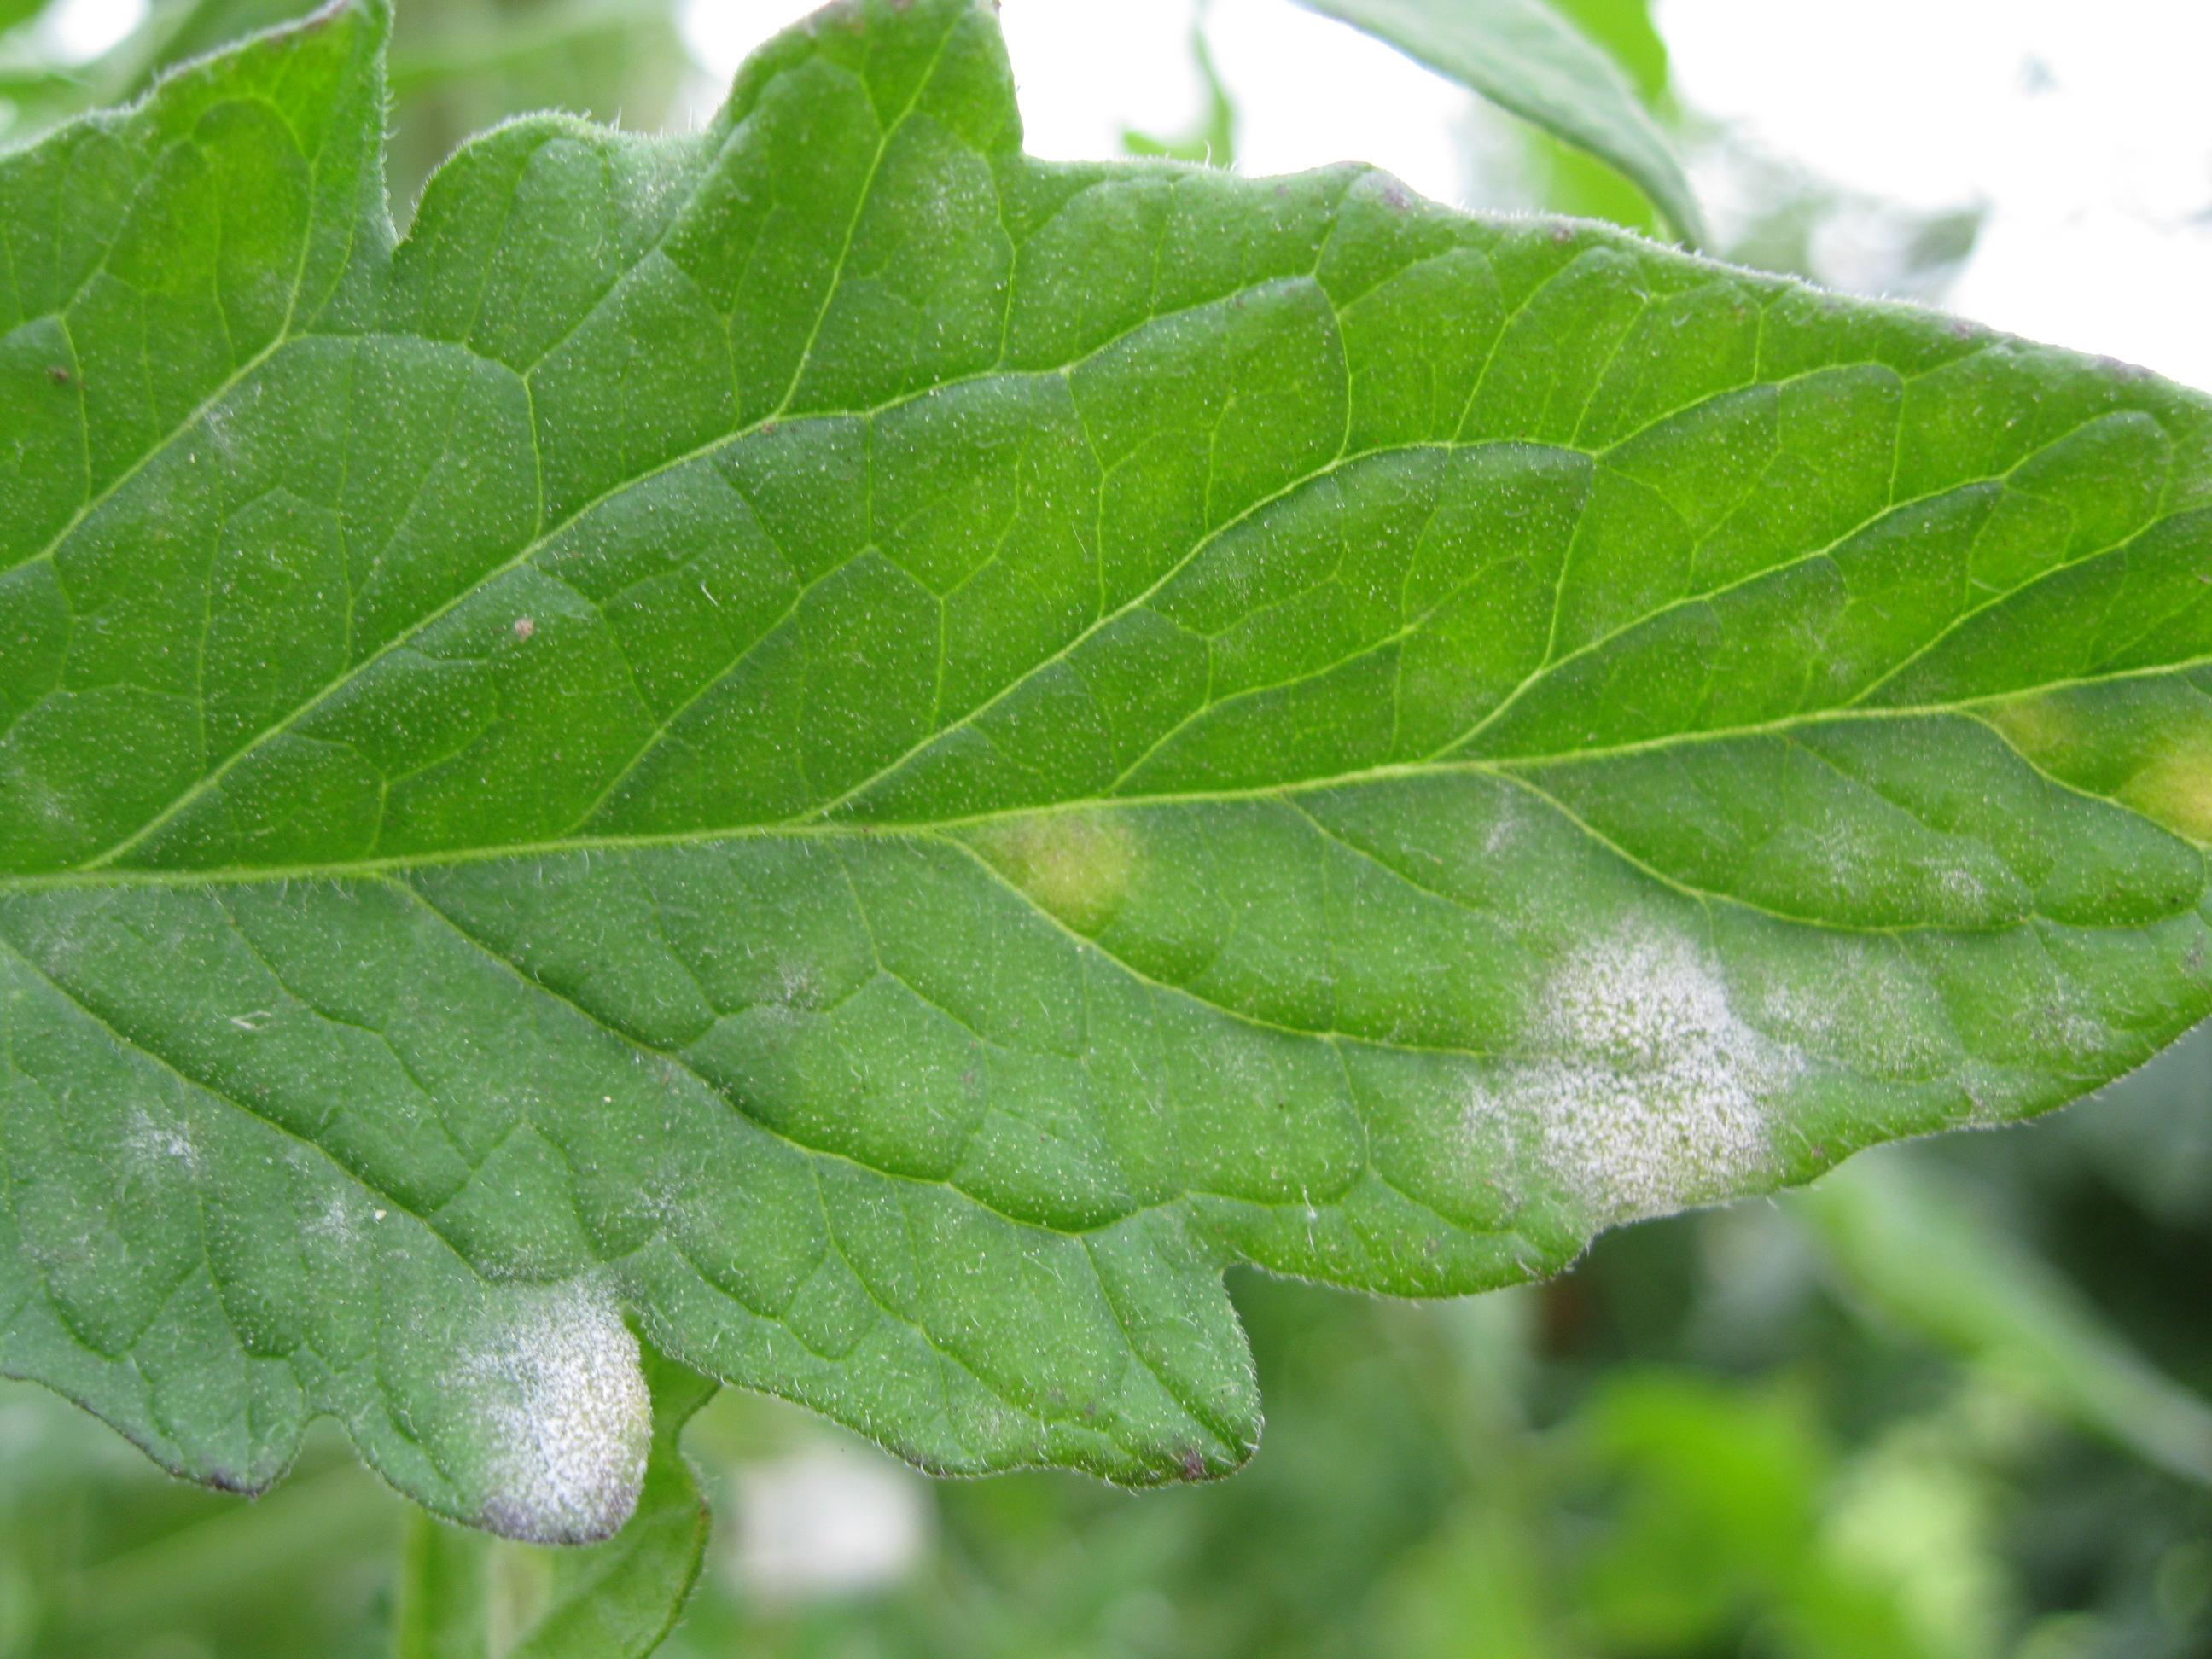Tomato mold leaf: (0, 16, 2207, 1568)
